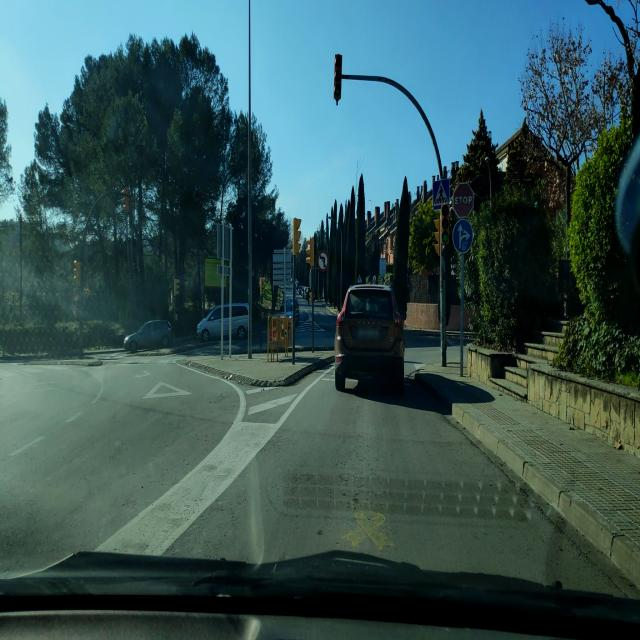car: (334, 280, 405, 392), (196, 302, 254, 344), (124, 319, 174, 353)
